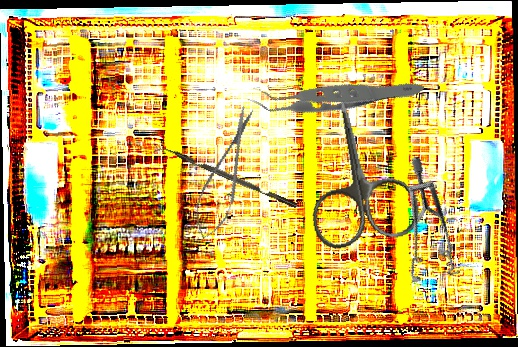Chopper: (152, 141, 298, 215)
Iris Scissors: (291, 91, 424, 253)
Micro Scissor: (186, 102, 265, 245)
Speculum: (365, 155, 496, 299)
Tissue Forceps: (245, 18, 425, 168)
